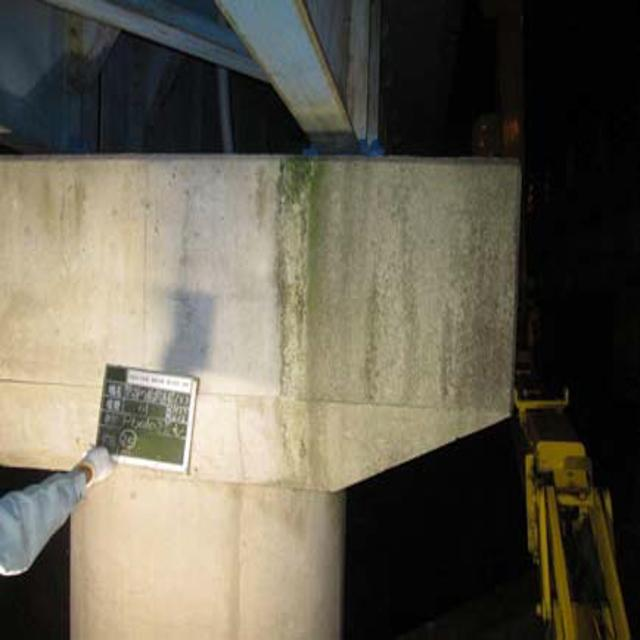leakage: (280, 140, 336, 464)
